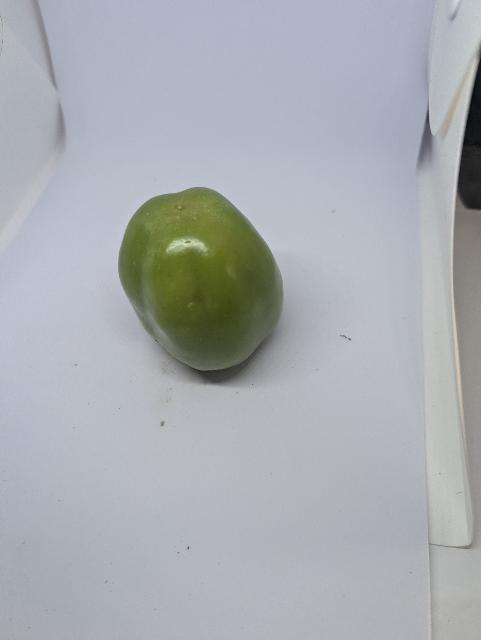green: (116, 180, 294, 394)
